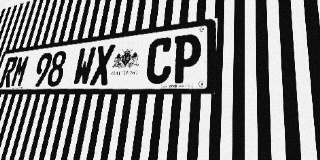8: (45, 50, 69, 86)
9: (31, 52, 54, 87)
C: (144, 36, 174, 84)
M: (10, 55, 31, 87)
P: (171, 33, 202, 83)
R: (0, 56, 19, 88)
W: (72, 46, 97, 86)
X: (89, 44, 116, 85)
